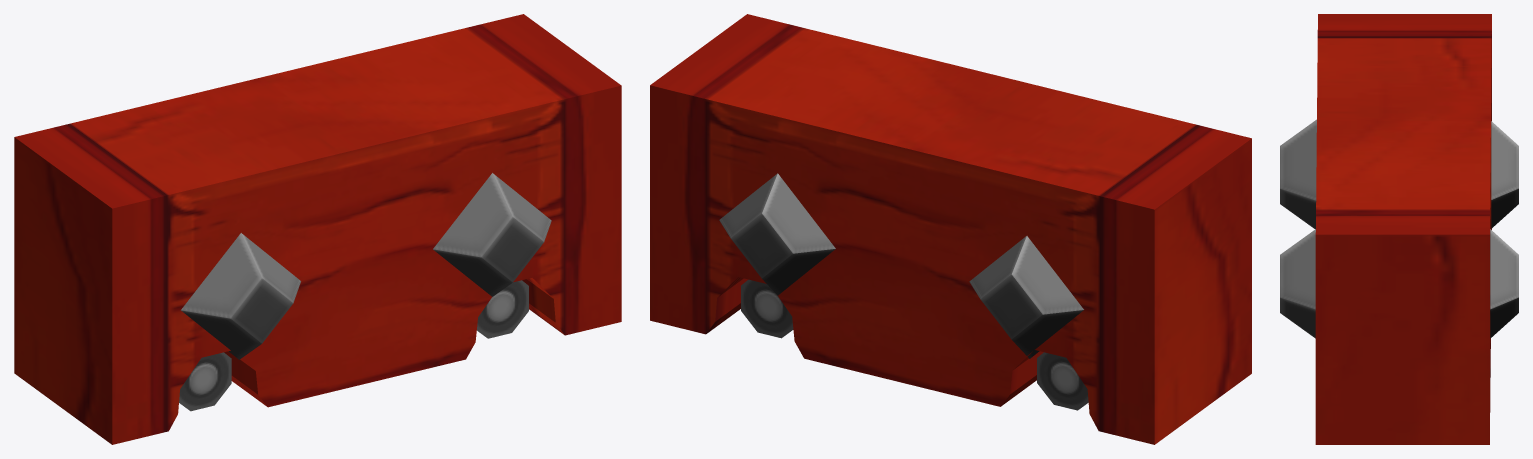
Rendered from dynamic_fence_rad_01.fbx.
3 renders of one model, left to right at view 1: azimuth 30°, elevation 25°; view 2: azimuth 150°, elevation 25°; view 3: azimuth 270°, elevation 25°, orthographic. The views are drawn at different scales.
Parts seen in each view (by area): view 1: dynamic_fence_rad_01; view 2: dynamic_fence_rad_01; view 3: dynamic_fence_rad_01.
Part boxes in pixels (box(x1,y1,x2,y2)): dynamic_fence_rad_01: box(14, 14, 621, 444); dynamic_fence_rad_01: box(650, 14, 1251, 444); dynamic_fence_rad_01: box(1280, 14, 1518, 444).
Bounding box in the file's own units: 90 × 40 × 41.14.
